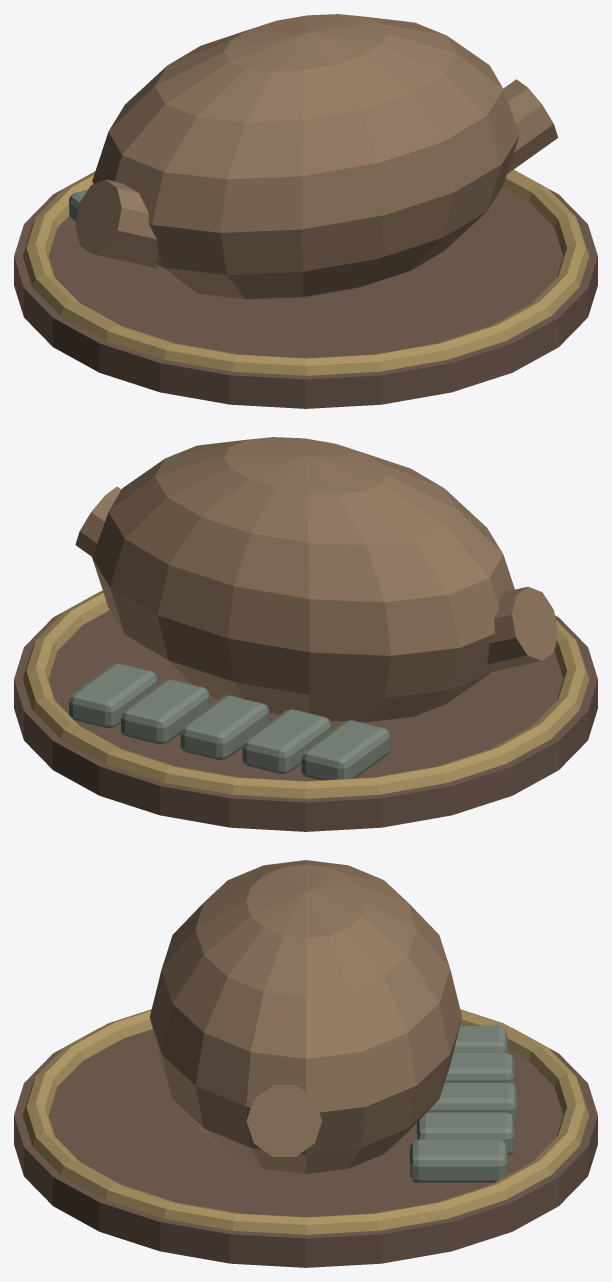
3 views of the same model, one above another, from view 1: azimuth 30°, elevation 25°; view 2: azimuth 150°, elevation 25°; view 3: azimuth 270°, elevation 25° (orthographic).
Visible parts, largest first — view 1: platedRoast; view 2: platedRoast; view 3: platedRoast.
Part boxes in pixels (x1,y1,x2,y2): platedRoast: [14, 14, 597, 408]; platedRoast: [14, 437, 597, 831]; platedRoast: [14, 860, 597, 1267].
Bounding box in the file's own units: 0.54 × 0.2575 × 0.54.
